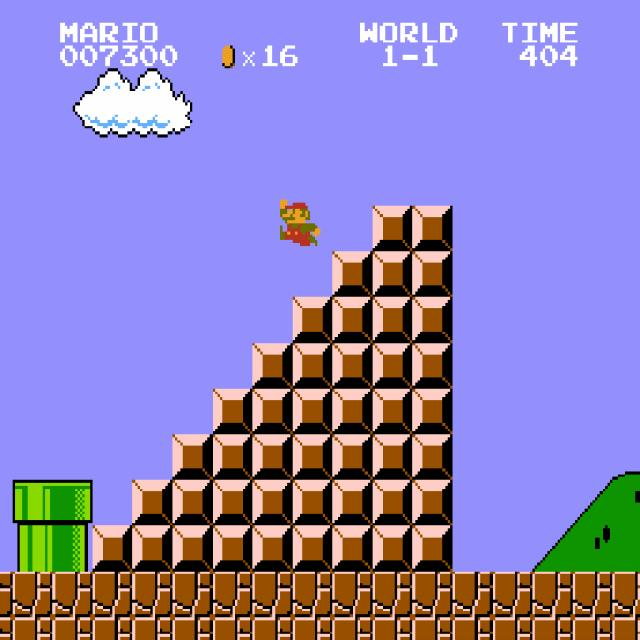hard_block: (132, 480, 173, 526), (172, 434, 213, 480), (172, 480, 213, 526), (212, 434, 253, 480), (212, 480, 253, 526), (252, 434, 293, 480), (252, 480, 293, 526), (292, 297, 333, 343), (292, 434, 333, 480), (292, 480, 333, 526), (332, 297, 373, 343), (332, 434, 373, 480), (332, 480, 373, 526), (372, 297, 413, 343), (372, 434, 413, 480), (372, 480, 413, 526), (412, 297, 453, 343), (412, 434, 453, 480), (412, 480, 453, 526), (92, 526, 133, 571), (132, 526, 173, 571), (172, 526, 213, 571), (212, 389, 253, 434), (212, 526, 253, 571), (252, 343, 293, 388), (252, 389, 293, 434), (252, 526, 293, 571), (292, 343, 333, 388), (292, 389, 333, 434), (292, 526, 333, 571), (332, 252, 373, 297), (332, 343, 373, 388), (332, 389, 373, 434), (332, 526, 373, 571), (372, 206, 413, 251), (372, 252, 413, 297), (372, 343, 413, 388), (372, 389, 413, 434), (372, 526, 413, 571), (412, 206, 453, 251), (412, 252, 453, 297), (412, 343, 453, 388), (412, 389, 453, 434), (412, 526, 453, 571)
little_mario: (277, 197, 320, 246)
pipe: (12, 526, 53, 571), (52, 526, 93, 571)
pipe_head: (12, 480, 53, 526), (52, 480, 93, 526)
undestructible_block: (12, 572, 53, 617), (52, 572, 93, 617), (92, 572, 133, 617), (132, 572, 173, 617), (172, 572, 213, 617), (212, 572, 253, 617), (252, 572, 293, 617), (292, 572, 333, 617), (332, 572, 373, 617), (372, 572, 413, 617), (412, 572, 453, 617), (452, 572, 493, 617), (492, 572, 533, 617), (532, 572, 573, 617), (572, 572, 613, 617), (612, 572, 640, 617), (12, 617, 53, 640), (52, 617, 93, 640), (92, 617, 133, 640), (132, 617, 173, 640), (172, 617, 213, 640), (212, 617, 253, 640), (252, 617, 293, 640), (292, 617, 333, 640), (332, 617, 373, 640), (372, 617, 413, 640), (412, 617, 453, 640), (452, 617, 493, 640), (492, 617, 533, 640), (532, 617, 573, 640), (572, 617, 613, 640), (612, 617, 640, 640), (0, 572, 13, 617), (0, 617, 13, 640)
